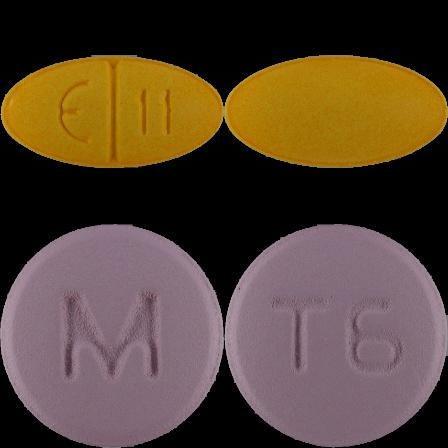53808-0814: (0, 0, 224, 224)
